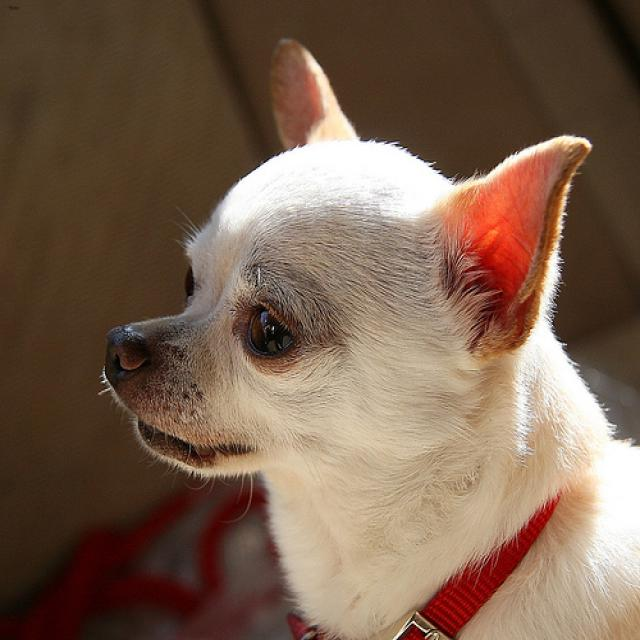dog-chihuahua: (87, 25, 637, 637)
